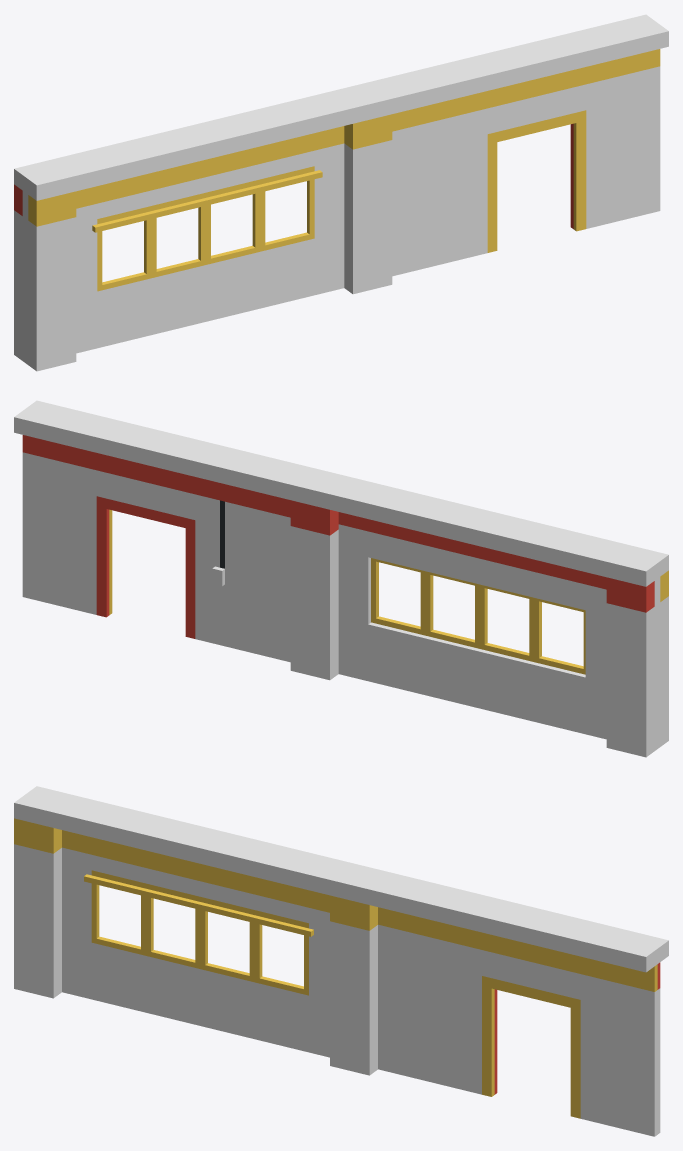
Rendered from inside_classroom_divide_corridor_2.obj.
3 renders of one model, top to bottom at view 1: azimuth 30°, elevation 25°; view 2: azimuth 150°, elevation 25°; view 3: azimuth 330°, elevation 25°, orthographic.
Bounding box in the file's own units: 12.8 × 3.6 × 0.8.
Materials: 1 (1 with a texture image).
